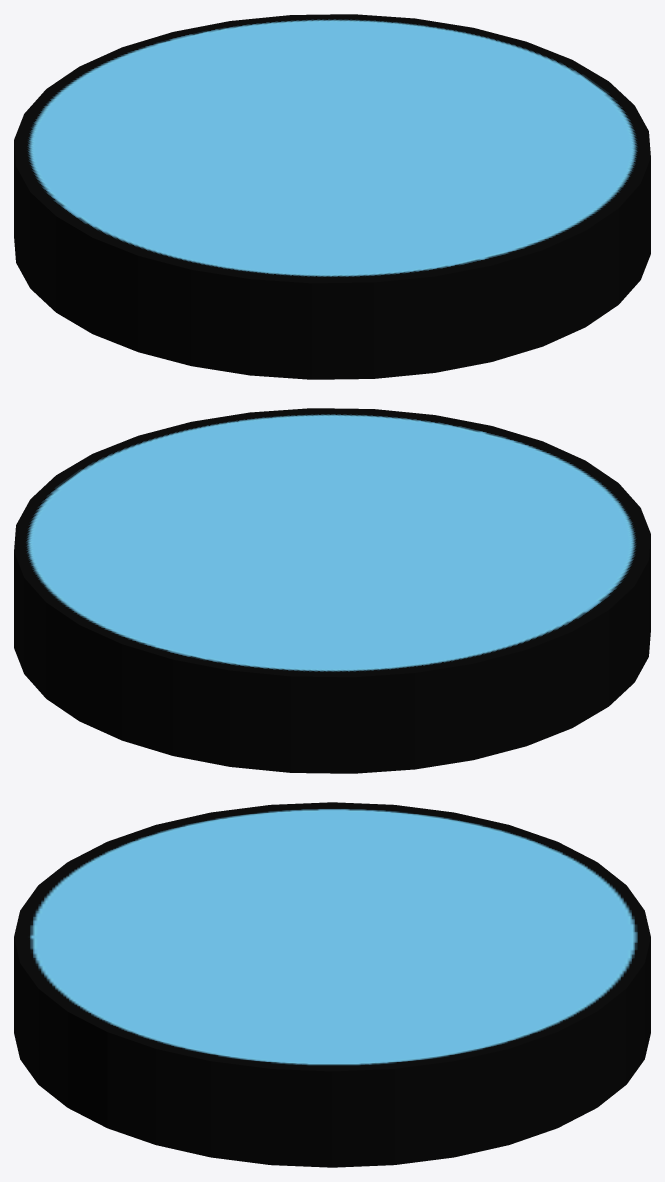
The model's file is piece_o.dae.
The picture shows the model from 3 angles, top to bottom: view 1: azimuth 30°, elevation 25°; view 2: azimuth 150°, elevation 25°; view 3: azimuth 270°, elevation 25°; orthographic projection.
Visible parts, largest first — view 1: Cylinder; view 2: Cylinder; view 3: Cylinder.
Part boxes in pixels (bbox=[...]): Cylinder: bbox=[14, 14, 650, 379]; Cylinder: bbox=[14, 408, 650, 773]; Cylinder: bbox=[14, 802, 650, 1167].
Size of the model in its own units: 0.06 by 0.06 by 0.01.
Materials: 1 (1 with a texture image).
